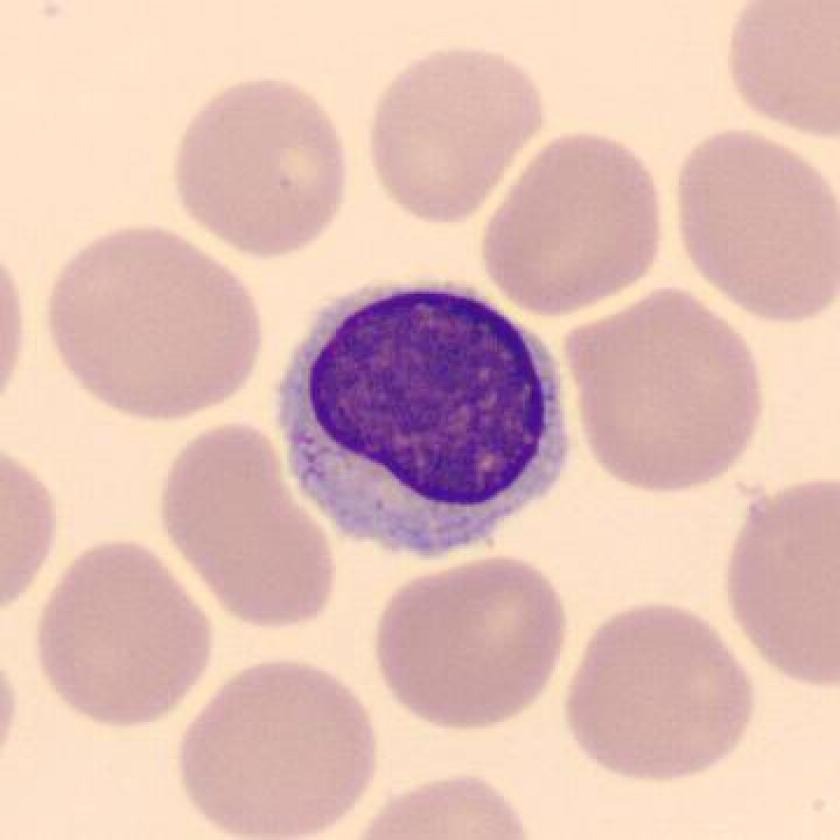lymphocyte: (265, 272, 584, 580)
